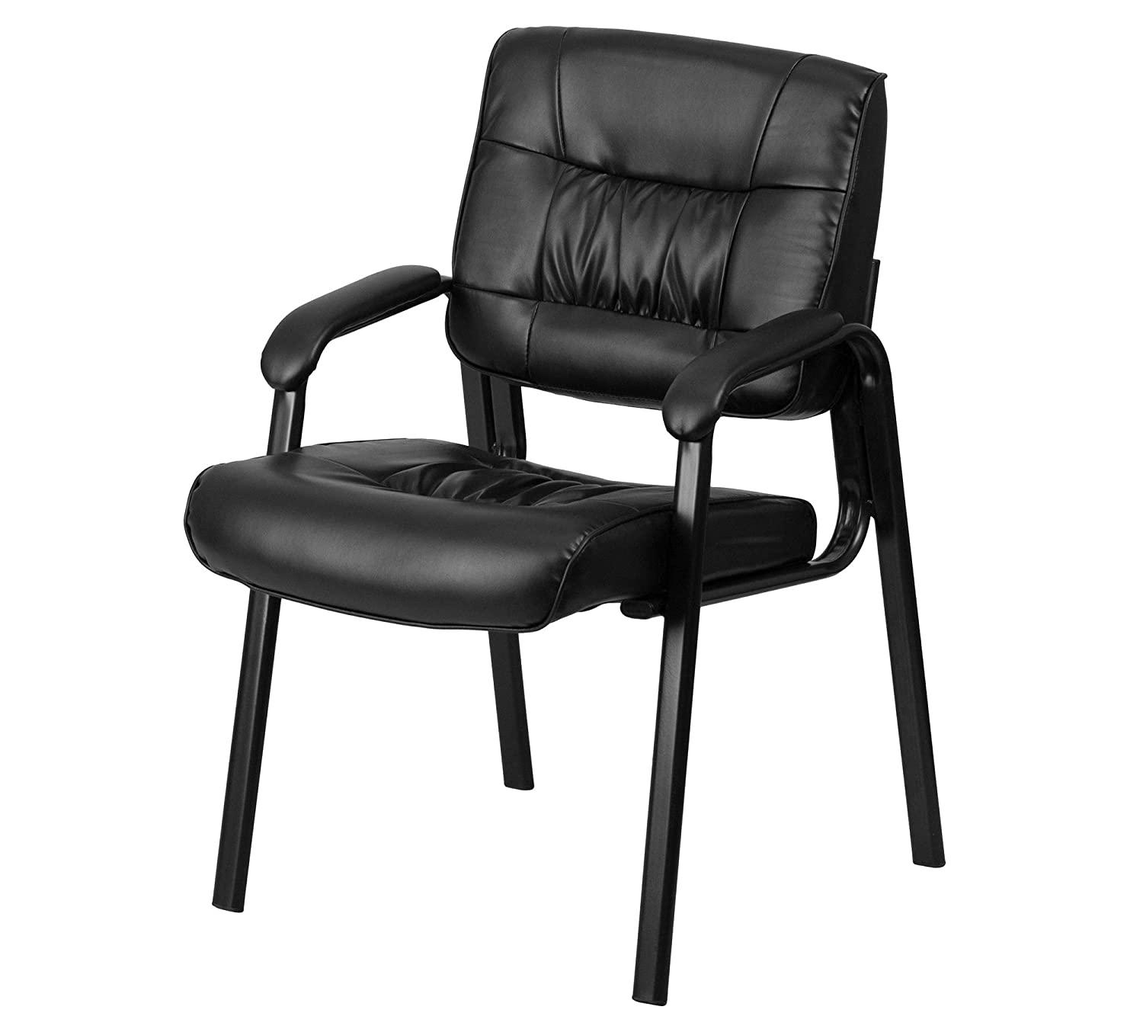chair: (100, 18, 917, 931)
